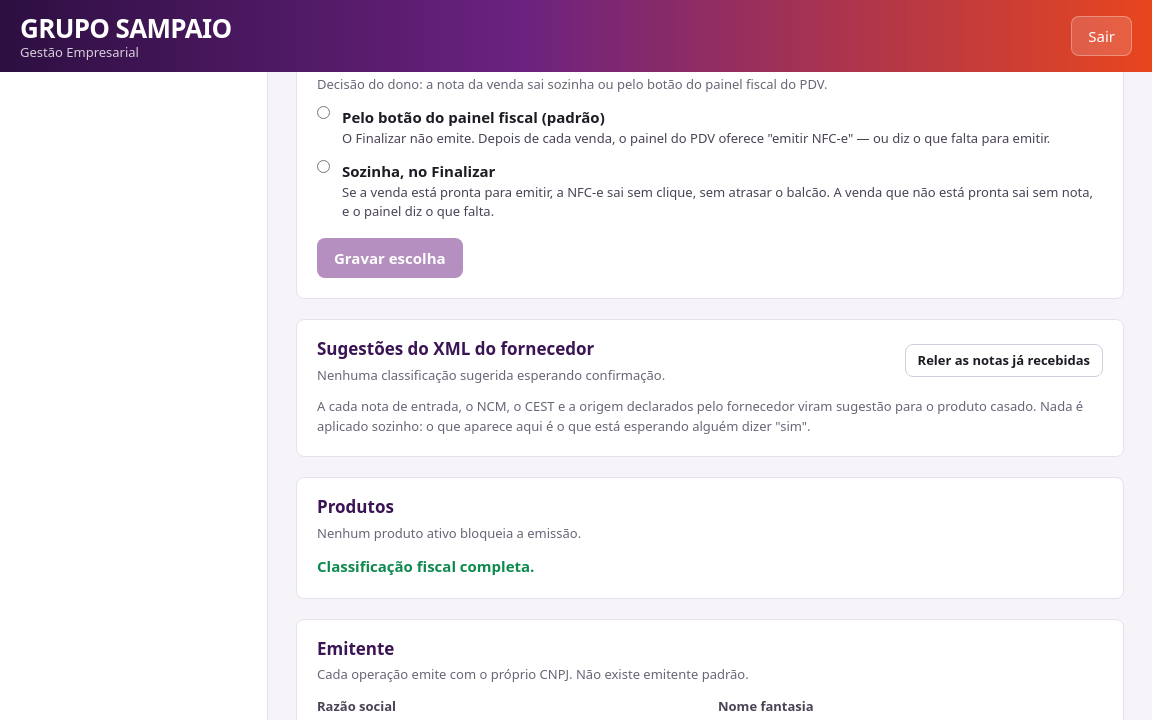
Test: o botão de reler as notas já recebidas › a recusa do servidor chega com a frase do servidor
(page scrolled)
Expected: the text "Nenhuma classificação sugerida esperando confirmação." is shown, [317,366,665,385]
Step 1. Click the button "Reler as notas já recebidas" → x=1004, y=361, box [905,344,1103,377]
(page scrolled)
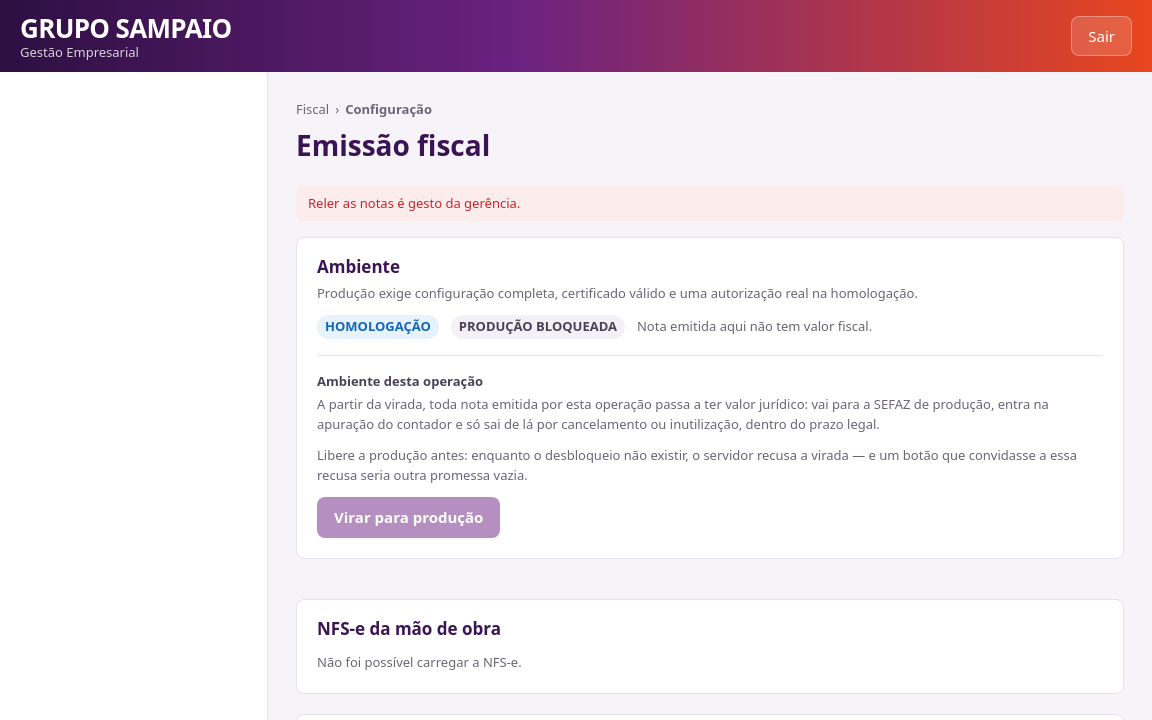
Result: the message reads "Reler as notas é gesto da gerência." at [308,194,520,212]
